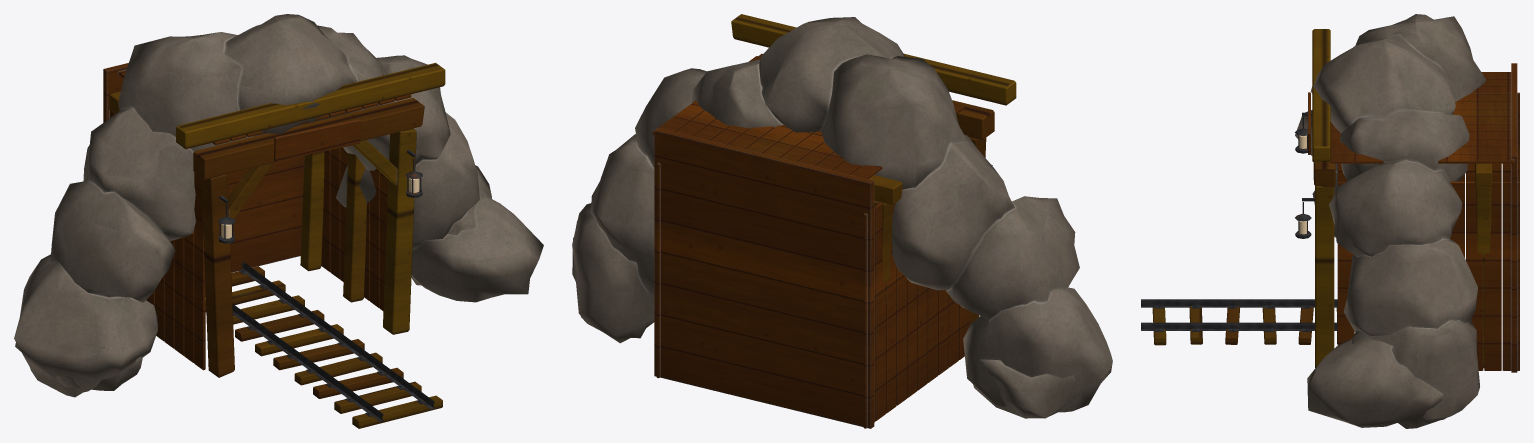
Rendered from IngressoMiniera.fbx.
3 views of the same model, side by side, from view 1: azimuth 30°, elevation 25°; view 2: azimuth 150°, elevation 25°; view 3: azimuth 270°, elevation 25° (orthographic). The views are drawn at different scales.
Visible parts, largest first — view 1: Miniera_Roccia, Miniera_Travi, Miniera_Assito, Miniera_Binari_Legno, Miniera_Binari_Ferro, Miniera_Ferro; view 2: Miniera_Roccia, Miniera_Assito, Miniera_Travi; view 3: Miniera_Roccia, Miniera_Assito, Miniera_Travi, Miniera_Binari_Ferro, Miniera_Binari_Legno, Miniera_Ferro.
Boxes of the visible parts, <box> form: Miniera_Roccia: <box>14,14,543,397</box>; Miniera_Travi: <box>109,62,445,377</box>; Miniera_Assito: <box>103,63,411,370</box>; Miniera_Binari_Legno: <box>205,266,442,428</box>; Miniera_Binari_Ferro: <box>232,262,434,421</box>; Miniera_Ferro: <box>218,150,422,243</box>; Miniera_Roccia: <box>572,17,1112,418</box>; Miniera_Assito: <box>652,56,969,428</box>; Miniera_Travi: <box>731,14,1016,325</box>; Miniera_Roccia: <box>1295,14,1485,428</box>; Miniera_Assito: <box>1308,63,1519,372</box>; Miniera_Travi: <box>1312,29,1492,368</box>; Miniera_Binari_Ferro: <box>1141,299,1337,331</box>; Miniera_Binari_Legno: <box>1152,306,1337,345</box>; Miniera_Ferro: <box>1295,112,1314,238</box>.
Bounding box in the file's own units: 897 × 544 × 619.
